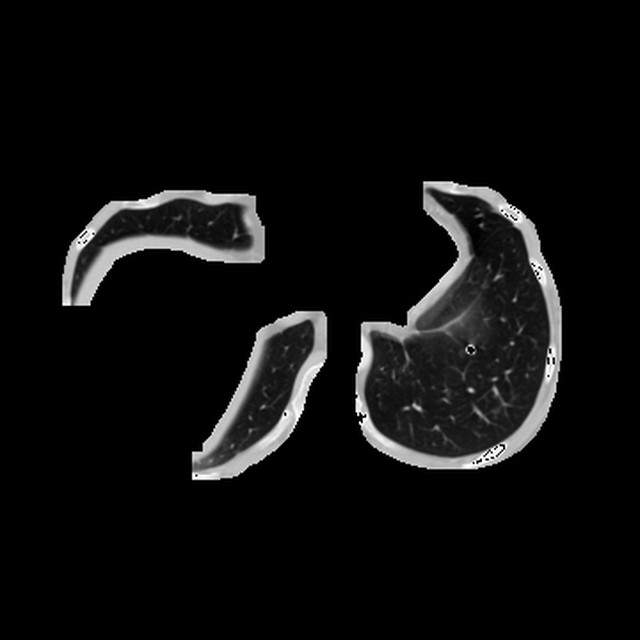PN: (466, 343, 476, 354)
